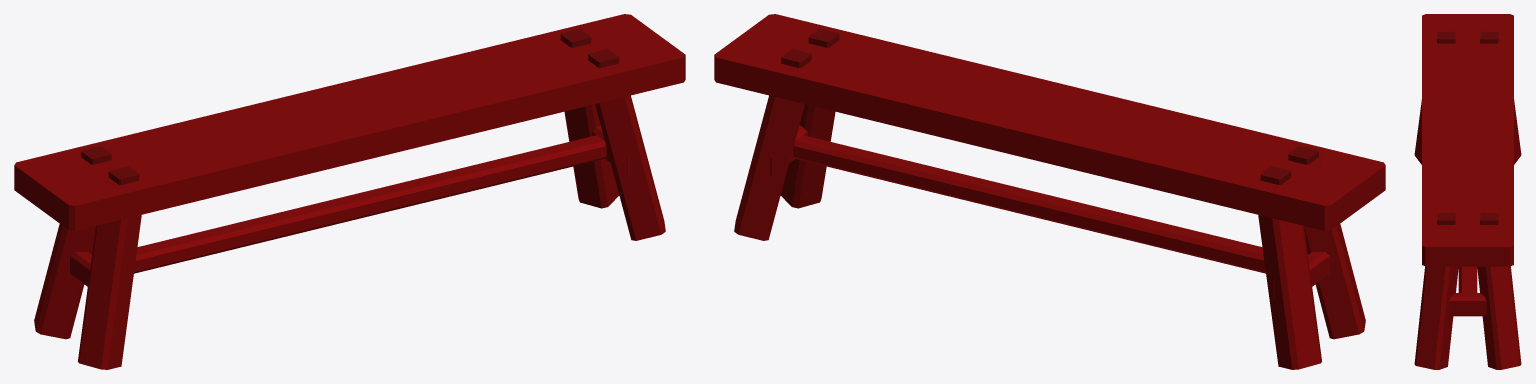
Rendered from SilverbrookPropBench.fbx.
3 views of the same model, side by side, from view 1: azimuth 30°, elevation 25°; view 2: azimuth 150°, elevation 25°; view 3: azimuth 270°, elevation 25° (orthographic). The views are drawn at different scales.
Parts seen in each view (by area): view 1: SM_SBPropBench_Timber; view 2: SM_SBPropBench_Timber; view 3: SM_SBPropBench_Timber.
Boxes of the visible parts, box(x1,y1,x2,y2) form: SM_SBPropBench_Timber: box(14, 14, 685, 369); SM_SBPropBench_Timber: box(714, 14, 1385, 369); SM_SBPropBench_Timber: box(1414, 14, 1521, 369).
Size of the model in its own units: 180 by 50.05 by 34.92.
